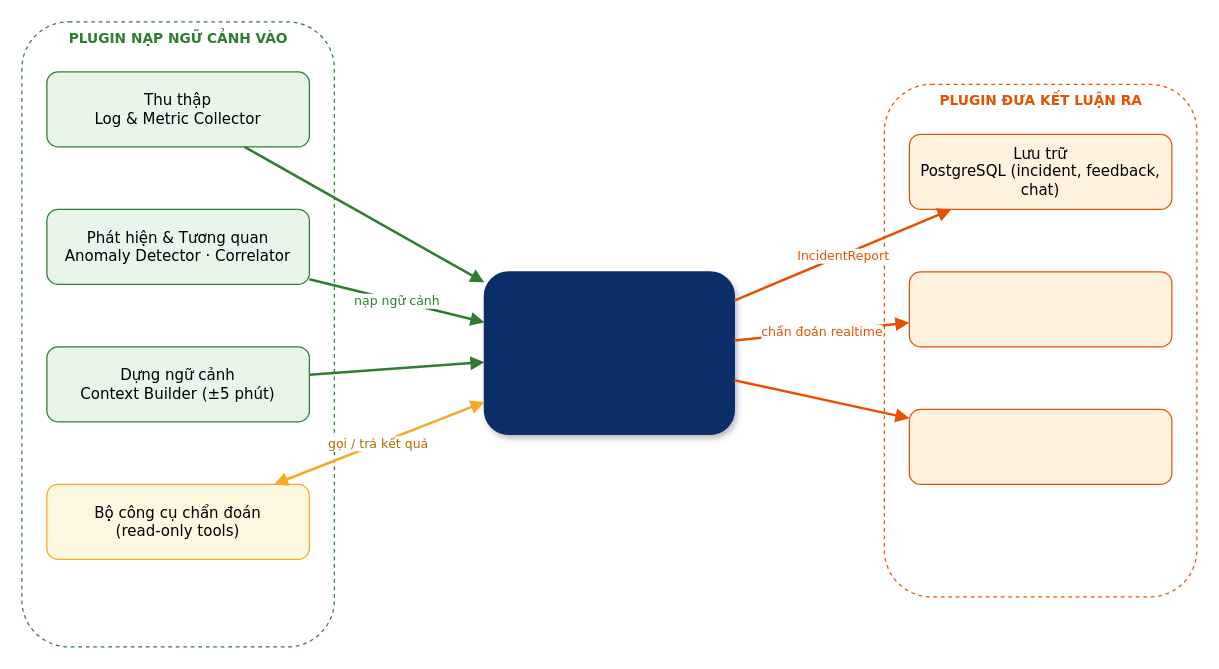
The diagram is 1219 pixels wide and 669 high, and some of its shapes have lost their labels. The centre of each missing label's shape, as x and y in pixels:
AI AGENT (Lõi — Brain) Điều tra & Chẩn đoán vòng lặp gọi công cụ: point (610, 354)
Giao diện TUI Duckompose (WebSocket): point (1040, 309)
Kênh cảnh báo (TUI · tương lai: email/on-call): point (1040, 446)
